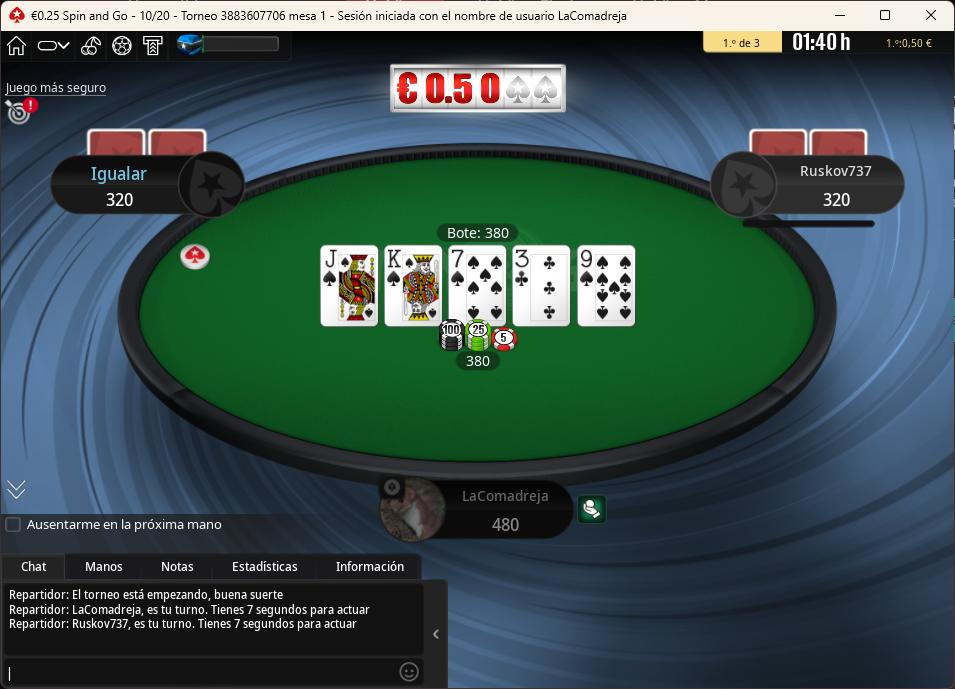ButtonBet: (316, 241, 639, 332)
Dealer: (180, 242, 214, 273)
HiddenCards: (84, 129, 213, 159), (745, 129, 868, 158)
Player: (716, 155, 911, 219), (50, 151, 245, 214)
PlayerChips: (101, 189, 141, 208), (821, 190, 857, 211)
Pot: (435, 223, 518, 241)
PrincipalPlayer: (372, 473, 570, 541)
ShowedCards: (316, 241, 645, 332)
ShowedCards1: (319, 245, 384, 331)
ShowedCards2: (384, 246, 446, 329)
ShowedCards3: (446, 244, 509, 325)
ShowedCards4: (510, 247, 572, 330)
ShowedCards5: (572, 243, 637, 327)
SmallBigBlind: (130, 1, 182, 27)
TablePot: (434, 317, 531, 379)
